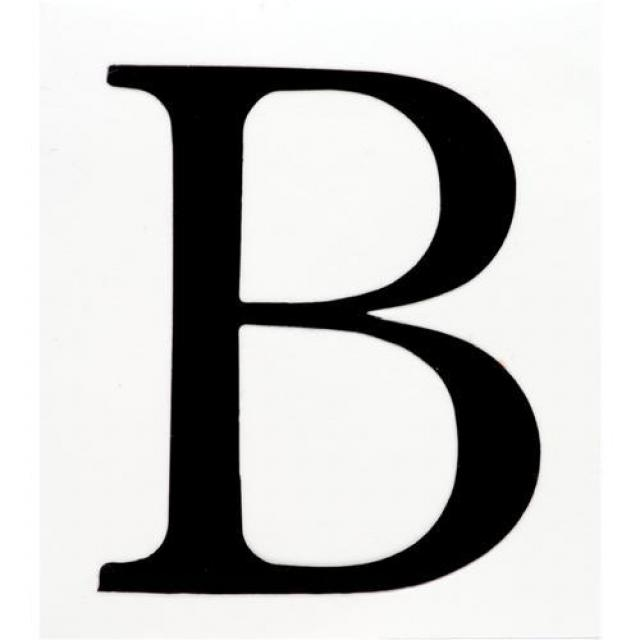B: (92, 21, 574, 627)
